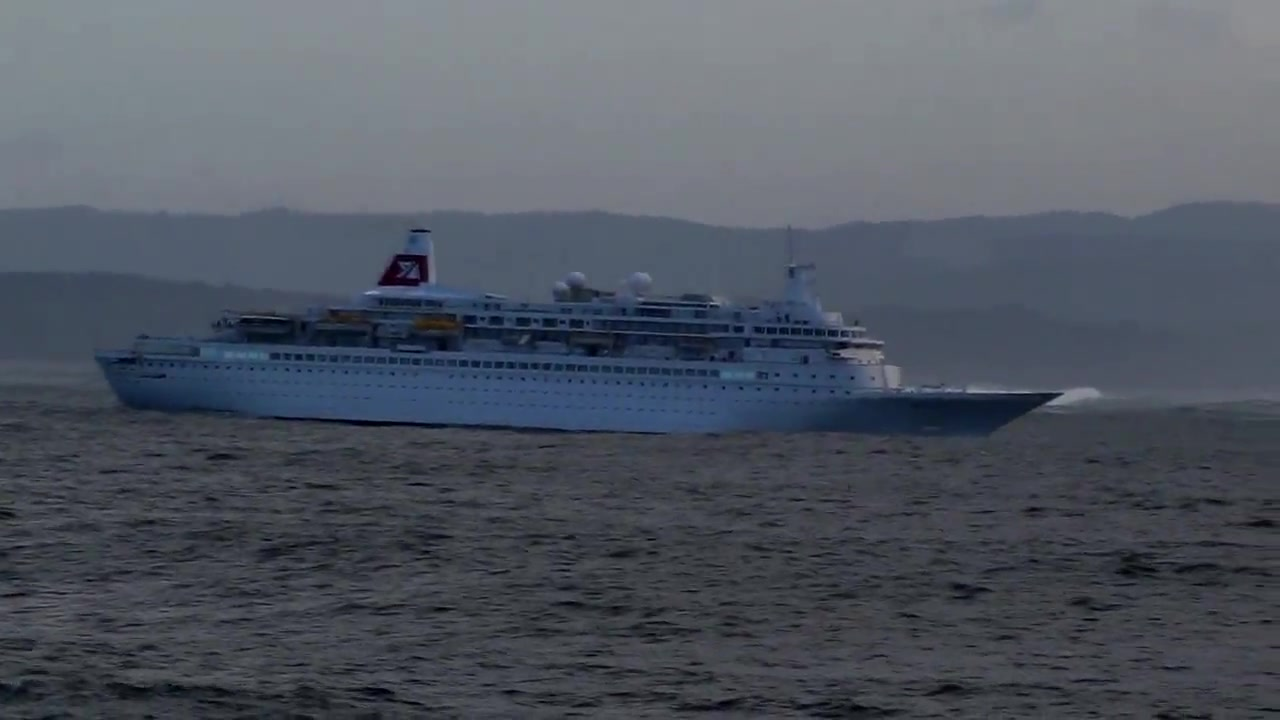boat: (85, 220, 1061, 445)
